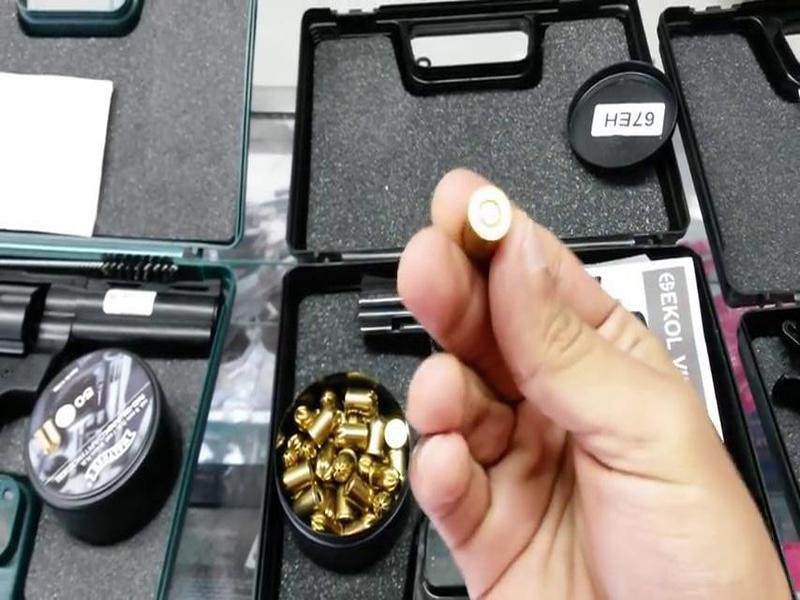Revolver: (1, 247, 235, 453)
